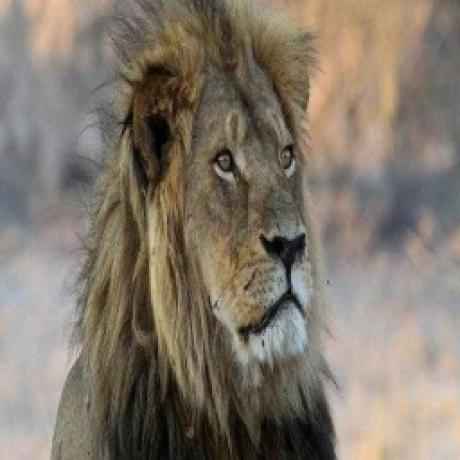Lion: (45, 0, 343, 460)
